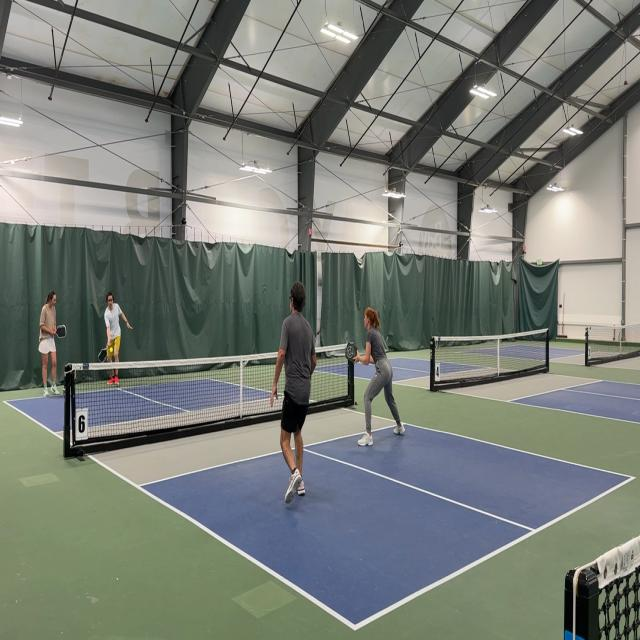ball: (110, 346, 114, 354)
